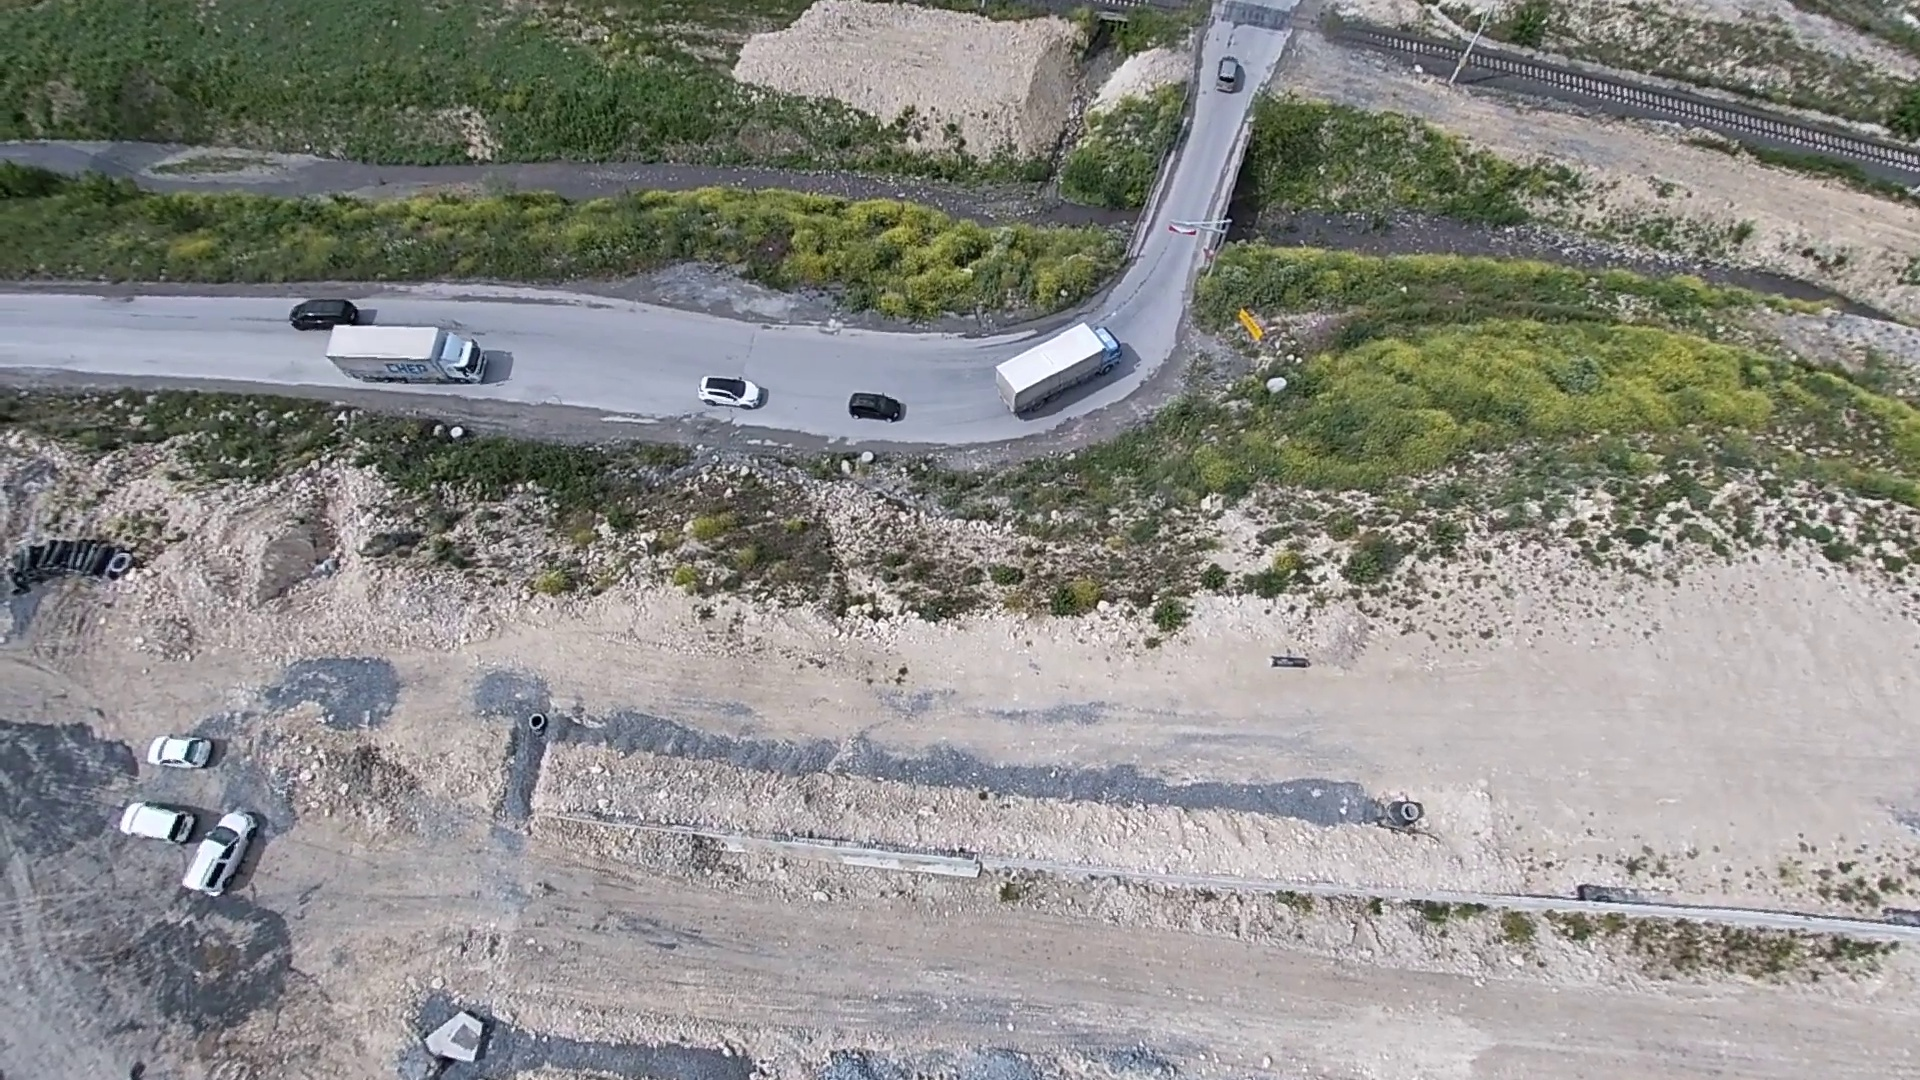arac: (989, 313, 1124, 417), (324, 322, 501, 389), (174, 804, 269, 905), (137, 719, 229, 773), (113, 800, 208, 839), (285, 294, 364, 334), (843, 382, 909, 423), (696, 373, 765, 411), (1216, 53, 1240, 92)
